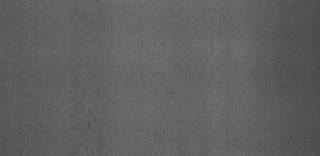silk spot: (66, 91, 106, 140)
